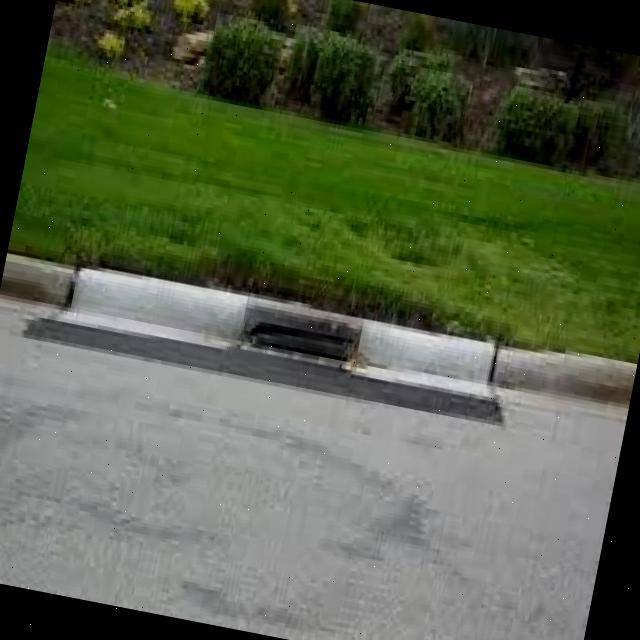curb: (1, 243, 636, 422)
